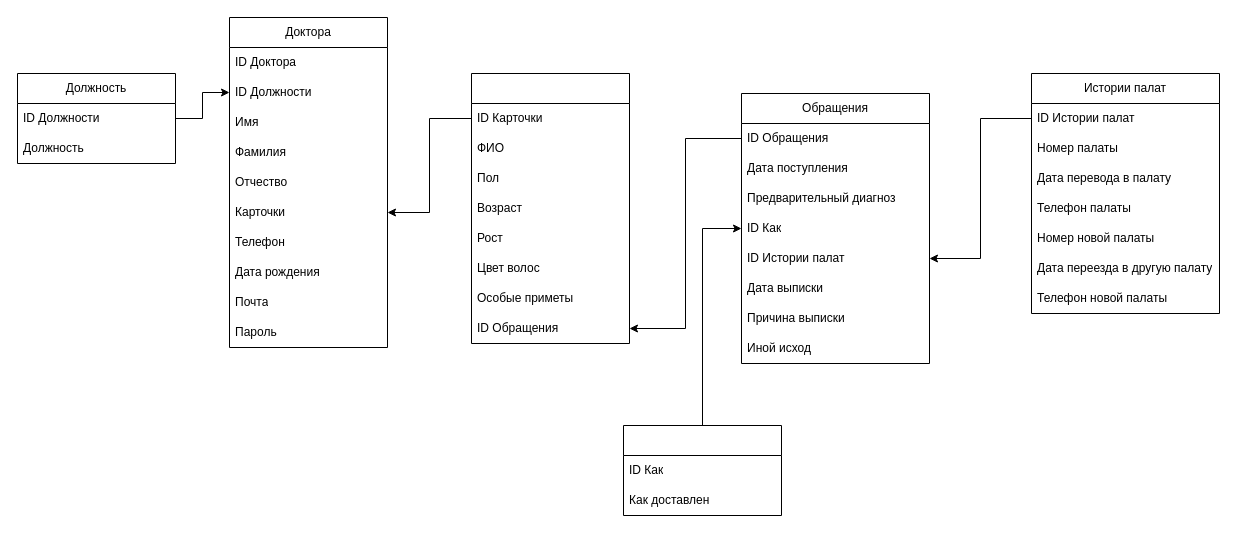
The diagram is 1237 pixels wide and 533 high, and some of its shapes have lost their labels. Each missing label, with the box of its shape:
Как поступил больной: (622, 424, 782, 516)
Карточка мед. статистики: (470, 72, 630, 344)
